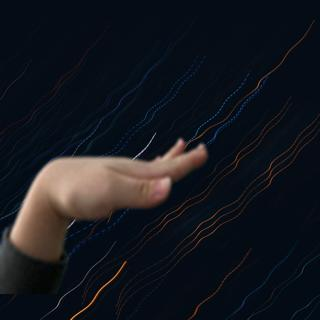Wait: (22, 134, 215, 225)
